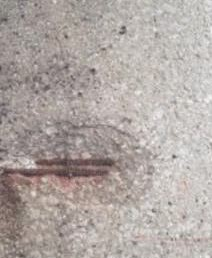Exposed reinforcement: (1, 167, 108, 177), (35, 158, 114, 167)
Spalling: (1, 121, 157, 206)
